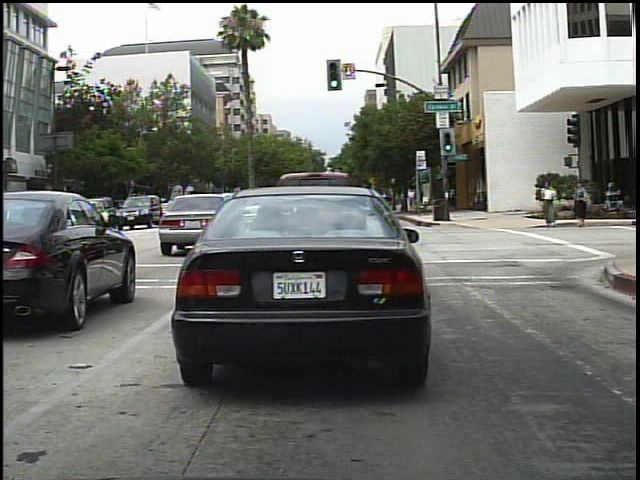person: (568, 176, 595, 230), (537, 176, 564, 230), (403, 186, 420, 217)
